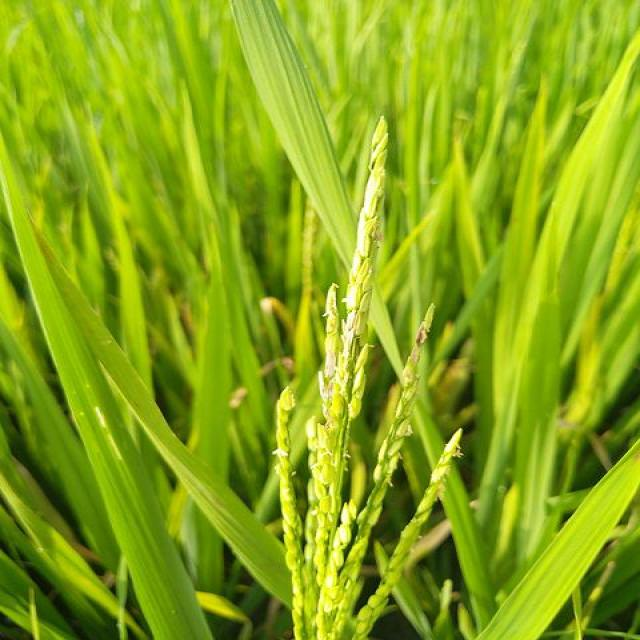Panicle Blight: (408, 303, 433, 368)
